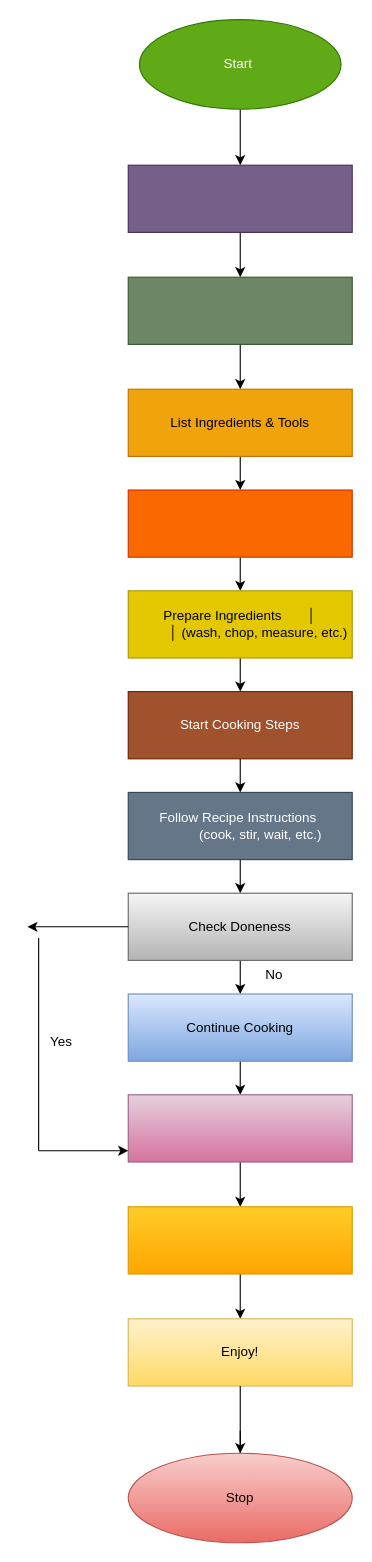
This 372x1562 diagram has some shape labels left out. Here are the shapes that lost their labels. From the top down, the centre of each, then its label:
point (239, 198): Choose the Recipe
point (239, 310): Read & Understand Recipe
point (239, 523): Gather Ingredients & Tools
point (239, 1128): Turn Off Stove / Oven
point (239, 1240): Serve the Dish
